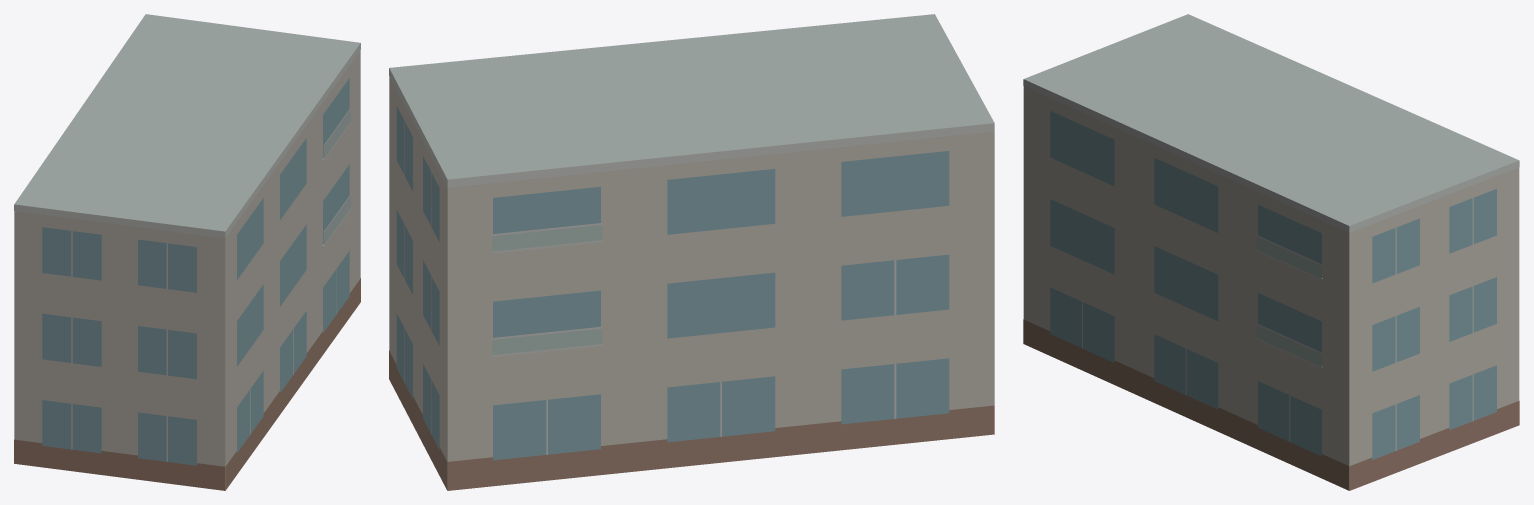
The model's file is survey-upis-33045333.glb.
The picture shows the model from 3 angles, left to right: view 1: azimuth 30°, elevation 25°; view 2: azimuth 150°, elevation 25°; view 3: azimuth 270°, elevation 25°; orthographic projection. The views are drawn at different scales.
Parts seen in each view (by area): view 1: survey-upis-33045333.tmp; view 2: survey-upis-33045333.tmp; view 3: survey-upis-33045333.tmp.
Boxes of the visible parts, x1,y1,x2,y2 form: survey-upis-33045333.tmp: (14, 14, 360, 490); survey-upis-33045333.tmp: (389, 14, 994, 490); survey-upis-33045333.tmp: (1023, 14, 1519, 490).
Bounding box in the file's own units: 16.15 × 9.4 × 15.96.
